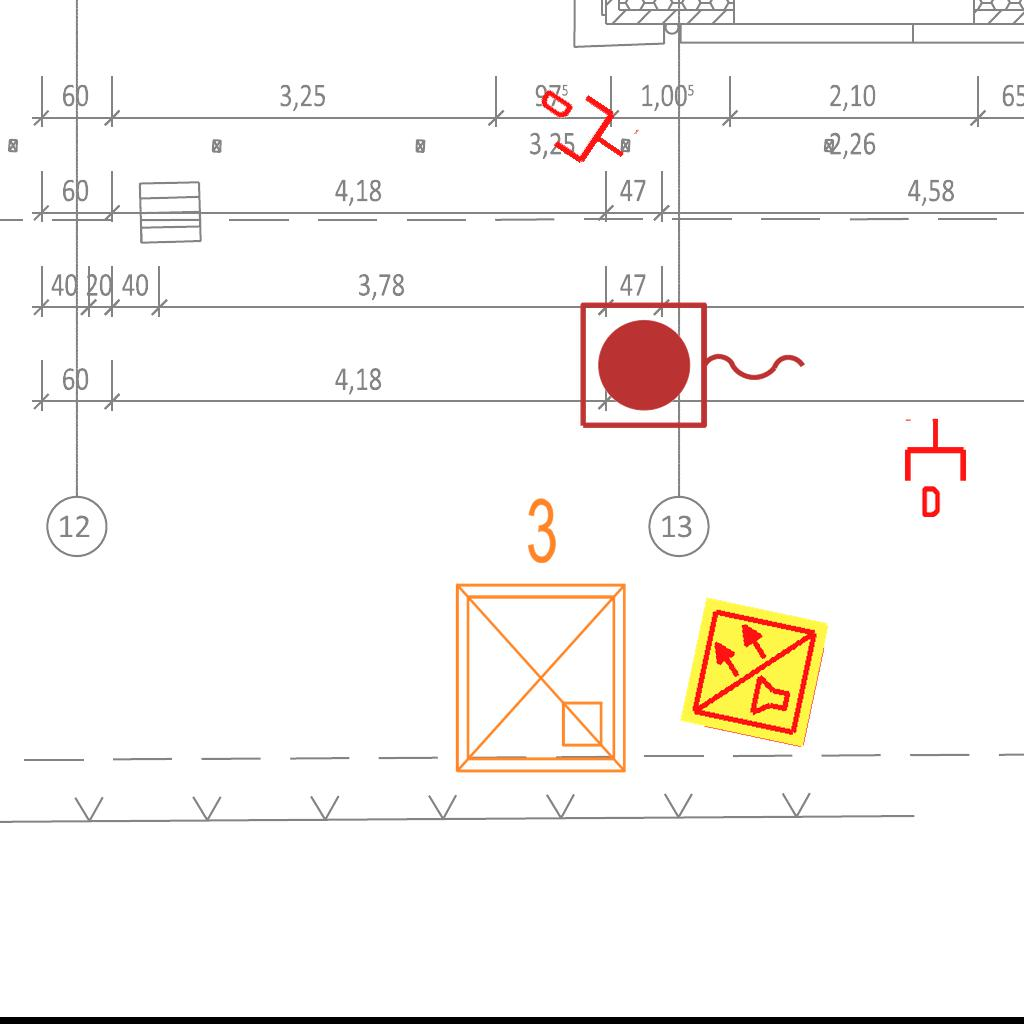Datenanschluss_einfach: (521, 71, 644, 185), (901, 417, 970, 517)
Einbaudownlights_LED_Konferenzraeume: (433, 487, 641, 787)
OKW_Multisensormelder_(Kombination_optischer_Rauch-Kahlenmonoxid_Waerme-Melder): (676, 593, 834, 751)
Zugtaster: (572, 295, 816, 439)
